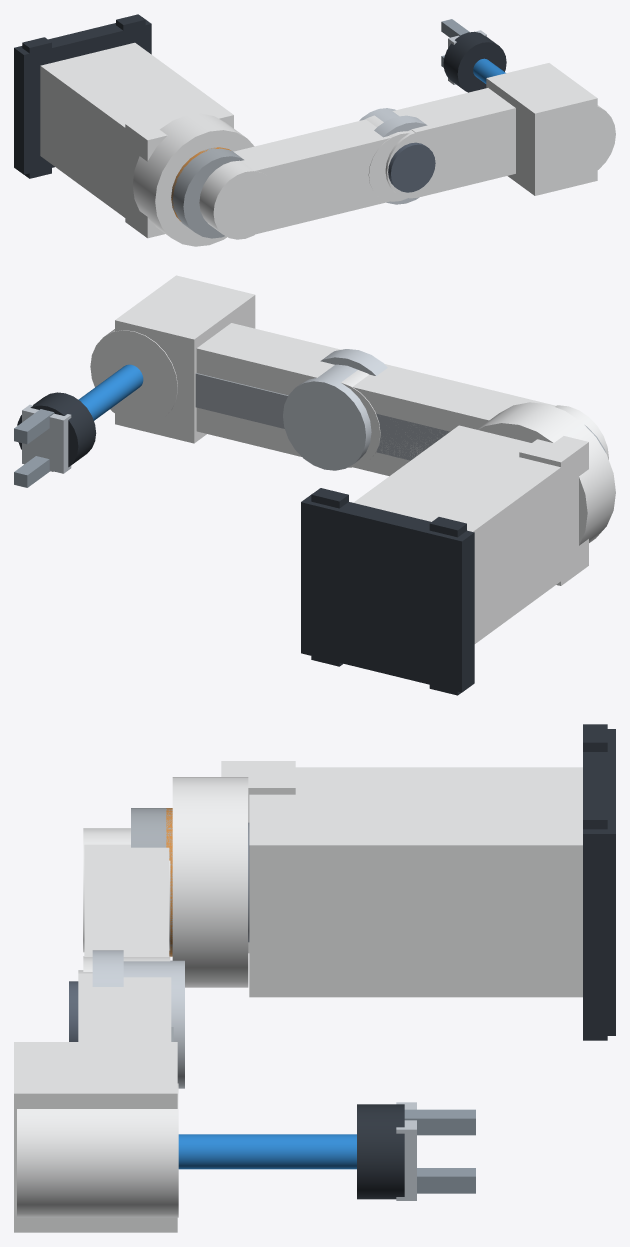
Rendered from robot.glb.
3 renders of one model, top to bottom at view 1: azimuth 30°, elevation 25°; view 2: azimuth 150°, elevation 25°; view 3: azimuth 270°, elevation 25°, orthographic. The views are drawn at different scales.
Visible parts, largest first — view 1: RS_base, RS_second-link-cover, RS_first-link-cover, RS_tool, RS_first-link, RS_elbow-motor, RS_elbow-joint, RS_z-actuator; view 2: RS_base, RS_second-link-cover, RS_first-link-cover, RS_elbow-joint, RS_tool, RS_second-link, RS_first-link, RS_z-actuator; view 3: RS_base, RS_second-link-cover, RS_first-link-cover, RS_tool, RS_z-actuator, RS_elbow-joint, RS_first-link.
Boxes of the visible parts, <box> form: RS_base: <box>14,14,254,246</box>; RS_second-link-cover: <box>385,63,615,198</box>; RS_first-link-cover: <box>199,115,409,239</box>; RS_tool: <box>441,19,506,92</box>; RS_first-link: <box>171,147,243,238</box>; RS_elbow-motor: <box>388,142,435,192</box>; RS_elbow-joint: <box>359,108,427,204</box>; RS_z-actuator: <box>473,58,505,83</box>; RS_base: <box>301,402,615,695</box>; RS_second-link-cover: <box>90,275,340,456</box>; RS_first-link-cover: <box>341,363,608,476</box>; RS_elbow-joint: <box>283,349,387,470</box>; RS_tool: <box>14,392,96,487</box>; RS_second-link: <box>195,373,288,428</box>; RS_first-link: <box>376,413,605,460</box>; RS_z-actuator: <box>78,364,143,420</box>; RS_base: <box>172,724,615,1040</box>; RS_second-link-cover: <box>14,970,178,1232</box>; RS_first-link-cover: <box>83,828,170,971</box>; RS_tool: <box>357,1102,475,1200</box>; RS_z-actuator: <box>178,1134,356,1169</box>; RS_elbow-joint: <box>92,950,184,1088</box>; RS_first-link: <box>131,808,172,956</box>.
Bounding box in the file's own units: 7.97 × 2.35 × 5.81.
